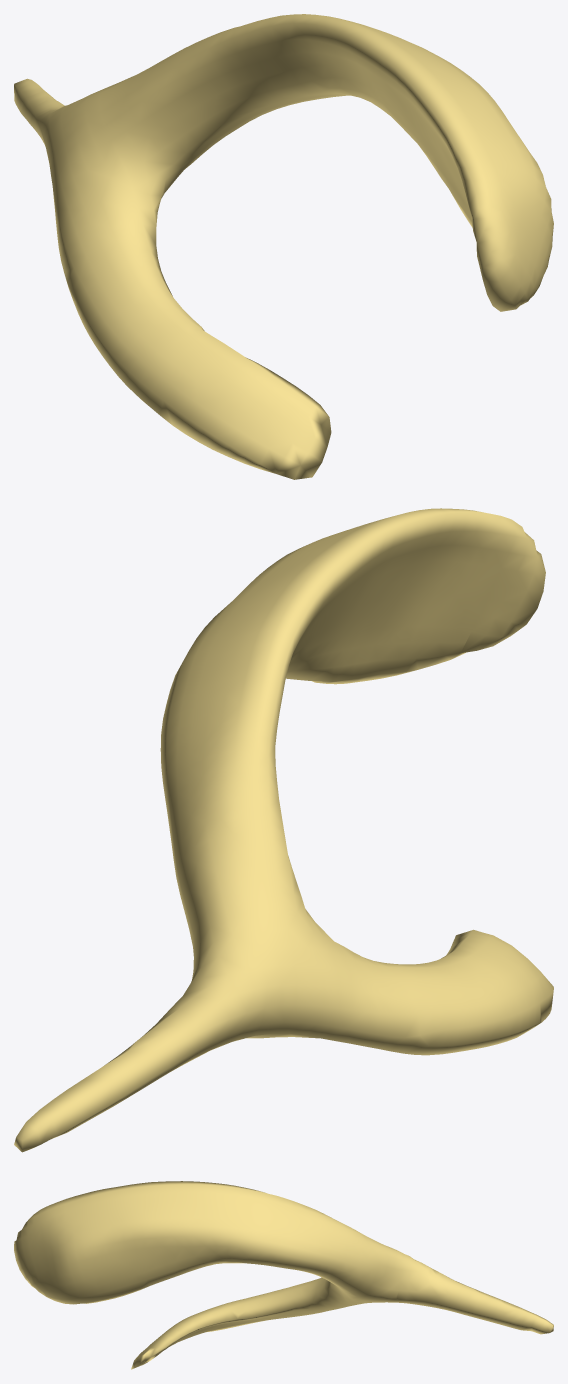
3 views of the same model, one above another, from view 1: azimuth 30°, elevation 25°; view 2: azimuth 150°, elevation 25°; view 3: azimuth 270°, elevation 25° (orthographic). The views are drawn at different scales.
Visible parts, largest first — view 1: ZA_50344d95c1ae2305; view 2: ZA_50344d95c1ae2305; view 3: ZA_50344d95c1ae2305.
Boxes of the visible parts, x1,y1,x2,y2 form: ZA_50344d95c1ae2305: [14, 14, 553, 479]; ZA_50344d95c1ae2305: [14, 508, 553, 1152]; ZA_50344d95c1ae2305: [14, 1181, 553, 1369].
Bounding box in the file's own units: 0.0374 × 0.0472 × 0.1059.
